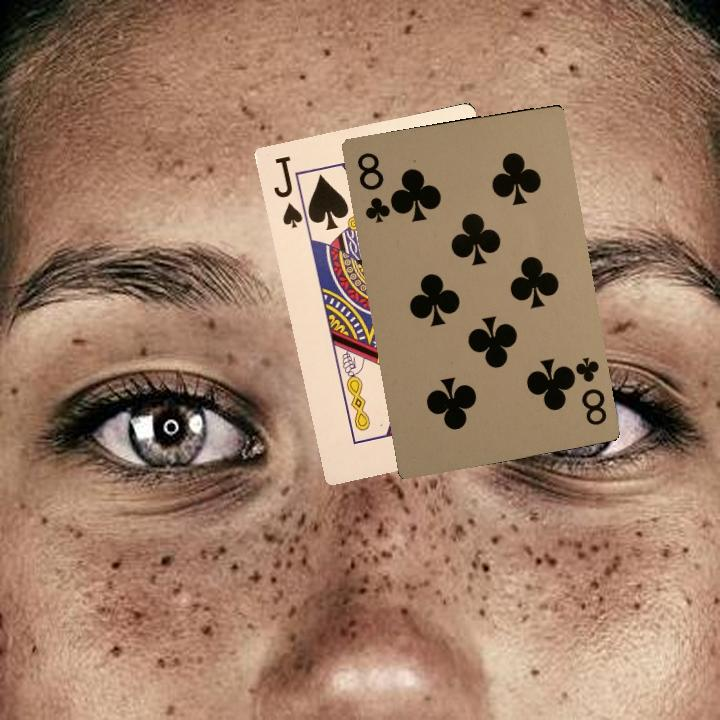8c: (564, 353, 609, 428), (353, 148, 395, 225)
Js: (269, 152, 313, 232)
